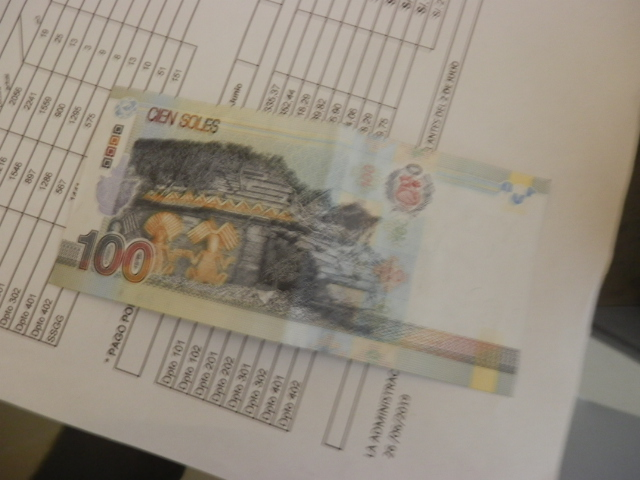B100: (58, 91, 535, 398)
